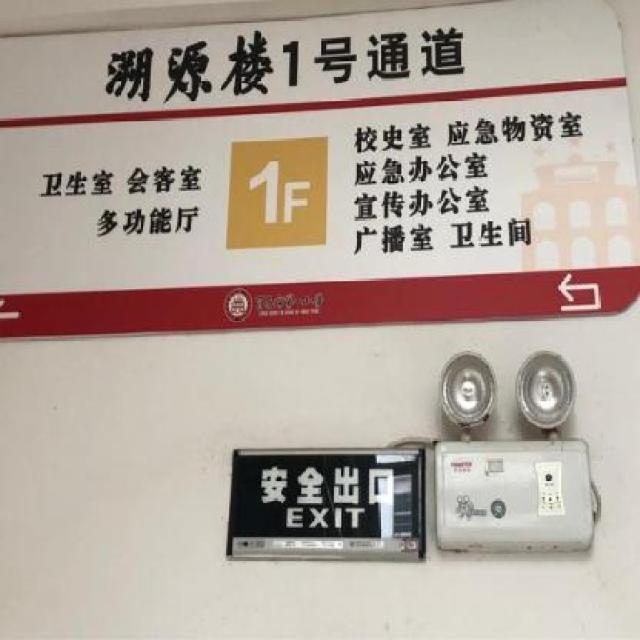exit_sign: (220, 428, 431, 574)
